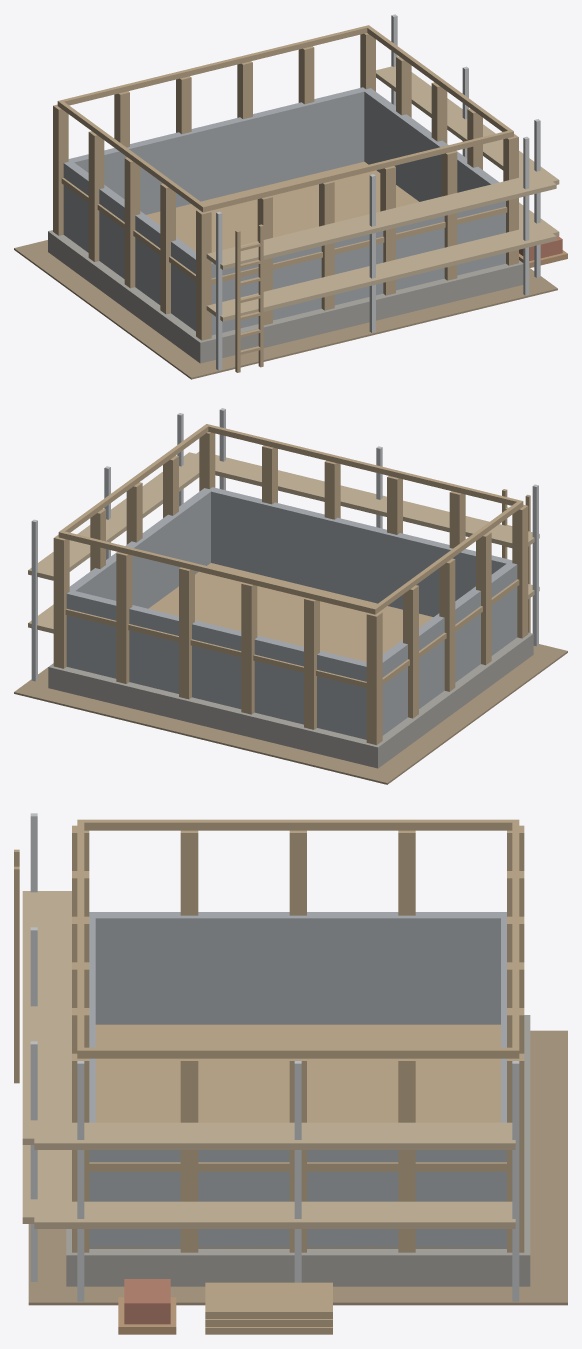
The model's file is garage_site_6.glb.
The picture shows the model from 3 angles, top to bottom: view 1: azimuth 30°, elevation 25°; view 2: azimuth 150°, elevation 25°; view 3: azimuth 270°, elevation 25°; orthographic projection. The views are drawn at different scales.
Visible parts, largest first — view 1: body; view 2: body; view 3: body.
Boxes of the visible parts, box(x1,y1,x2,y2) form: body: box(14, 14, 567, 379); body: box(14, 408, 567, 784); body: box(14, 813, 567, 1334).
Size of the model in its own units: 2.46 by 0.915 by 1.91.
